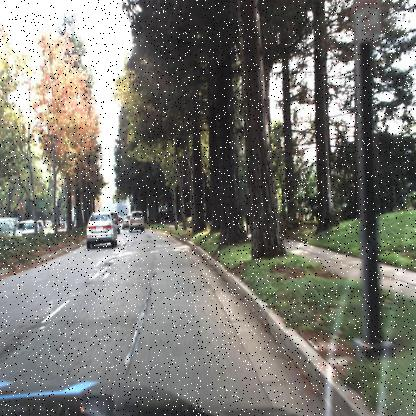car: (84, 208, 118, 249), (15, 218, 43, 239), (128, 208, 146, 235), (124, 211, 134, 232)
